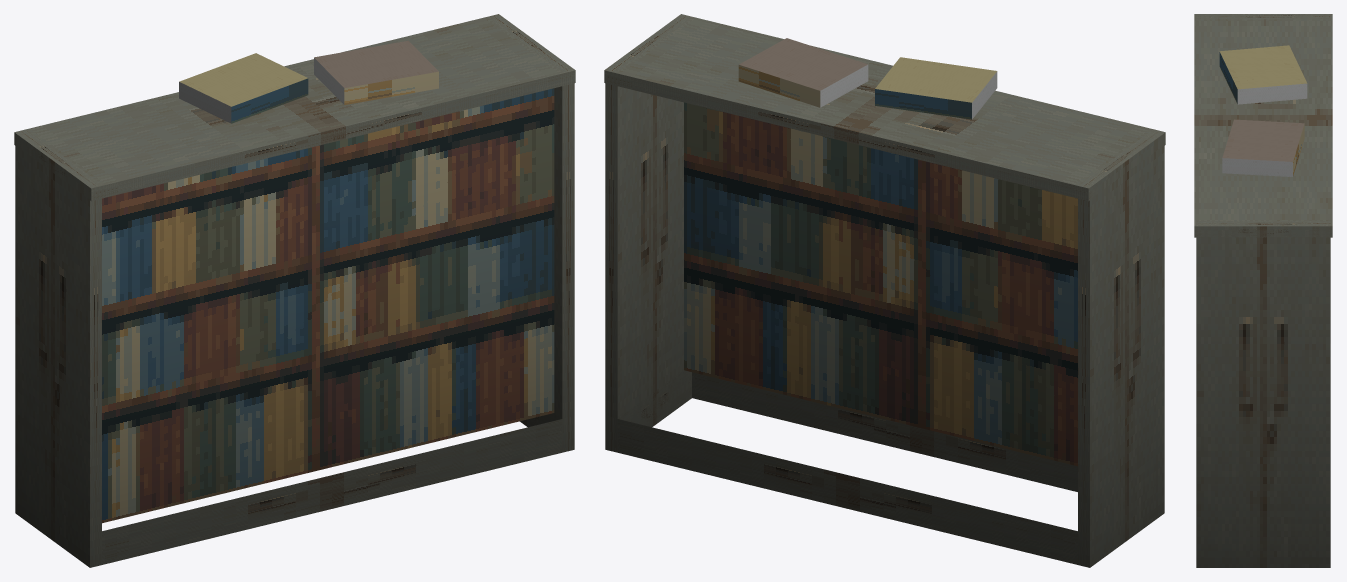
File: prop_bookshelf-low-0.glb
The picture shows the model from 3 angles, left to right: view 1: azimuth 30°, elevation 25°; view 2: azimuth 150°, elevation 25°; view 3: azimuth 270°, elevation 25°; orthographic projection. The views are drawn at different scales.
Visible parts, largest first — view 1: prop_bookshelf-low-0; view 2: prop_bookshelf-low-0; view 3: prop_bookshelf-low-0.
Part boxes in pixels (box(x1,y1,x2,y2)): prop_bookshelf-low-0: box(14, 14, 575, 567); prop_bookshelf-low-0: box(604, 14, 1165, 567); prop_bookshelf-low-0: box(1194, 14, 1332, 567).
Size of the model in its own units: 1.2 by 0.98 by 0.33.
Materials: 6 (6 with a texture image).
